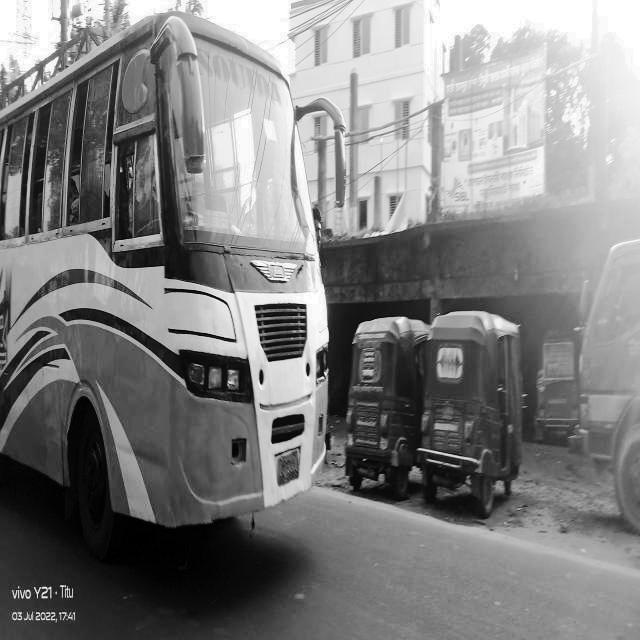Bus: (0, 0, 347, 554)
